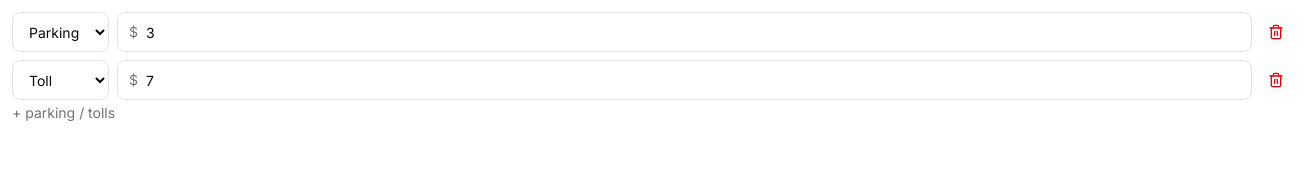
Scenario: TransportItemsEditor › removes the targeted row
The image size is (1304, 172).
Expected: the number of dropdowns is 2, [12,12,109,52]; [12,60,109,100]
Click the 1st button. click: [1276, 32]
box: [1260,16,1292,48]
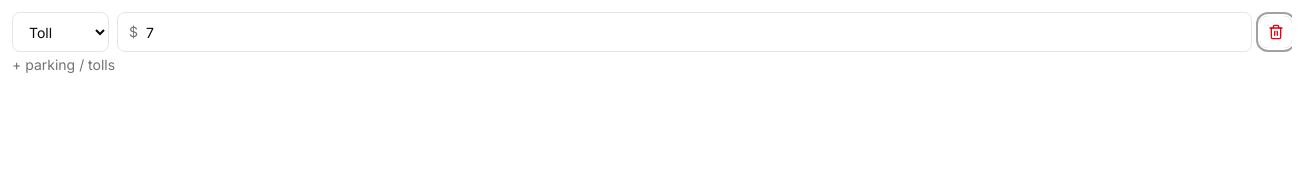
Expected: the number of dropdowns is 1, [12,12,109,52]
Expected: the dropdown shows "Toll", [12,12,109,52]
